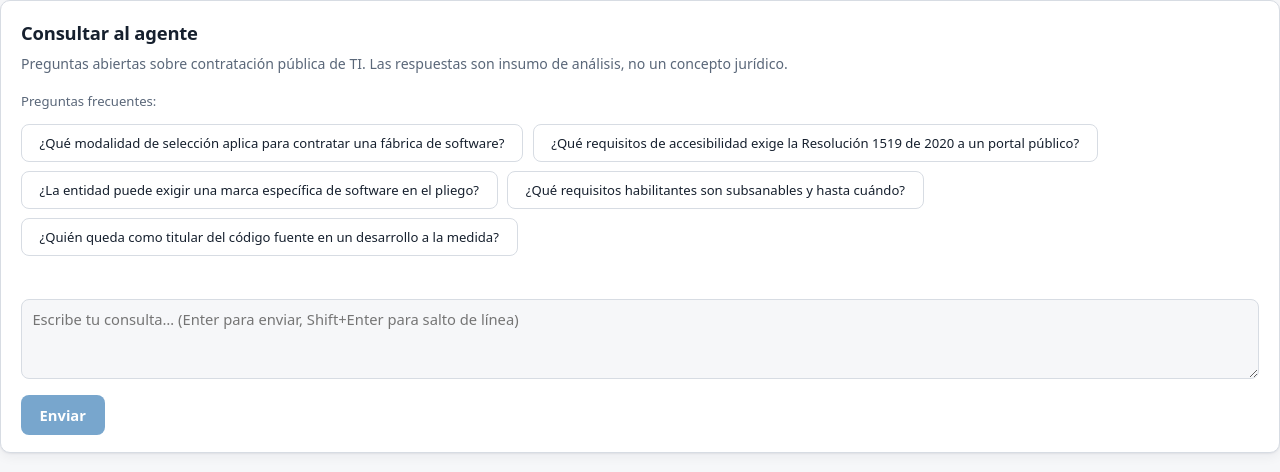
it: vista Consultar › una pregunta sugerida se envía con un clic
This screenshot has width=1280, height=472.
Click the button "modalidad de selección aplica" at (272, 143), box [21, 124, 523, 162]
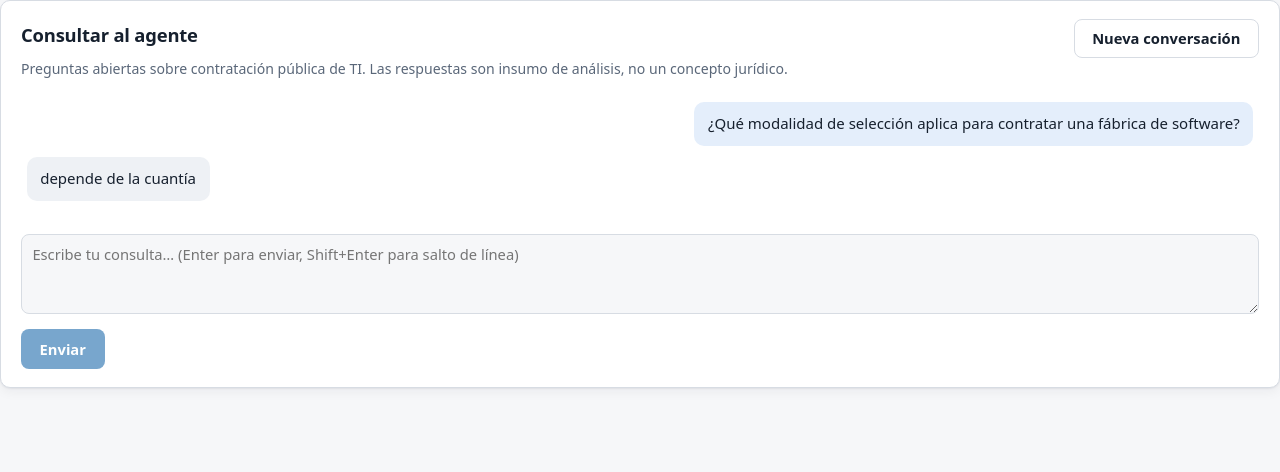
expect the text "depende de la cuantía" is shown: met, box [27, 157, 210, 201]
